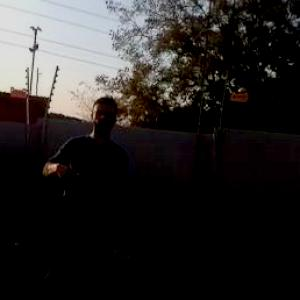follow: (30, 89, 135, 299)
